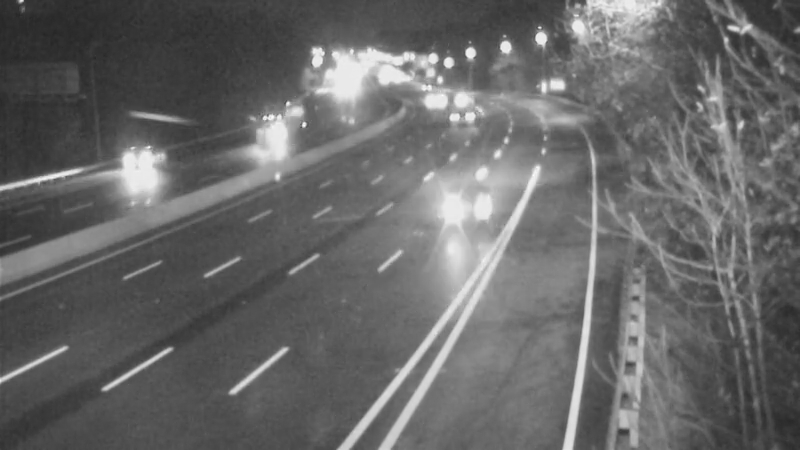vehicle: (425, 182, 505, 262), (89, 117, 169, 197), (402, 71, 452, 121), (429, 85, 479, 135), (256, 115, 306, 165)
